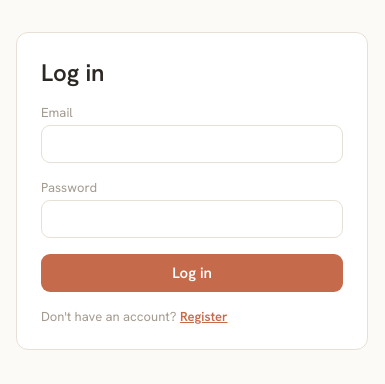
LoginPage › shows an error message when login rejects
The width and height of the screenshot is (385, 384).
Type "me@example.com" into the field labelled "Email" at (192, 144), box [41,125,343,163]
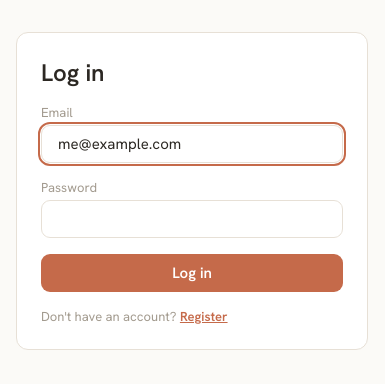
Type "secret" into the password field labelled "Password" at (192, 219), box [41,200,343,238]
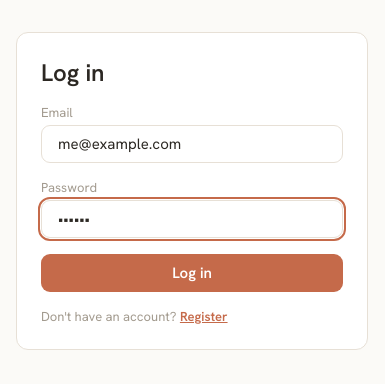
Click the button "Log in" at (192, 273), box [41,254,343,292]
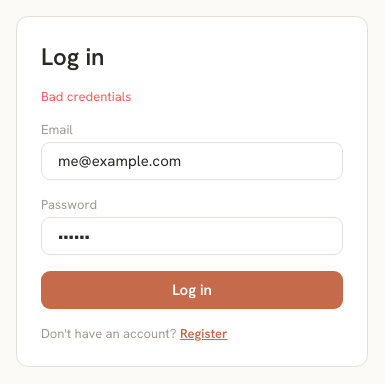
Expected: the text "Bad credentials" is shown, [41,88,131,104]
